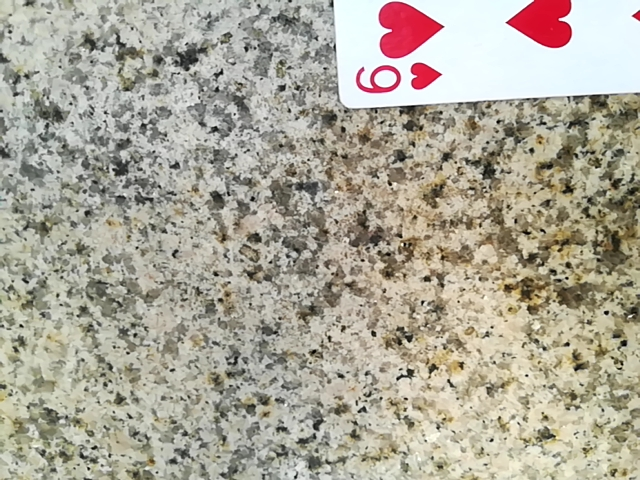hx 6: (317, 0, 640, 102)
